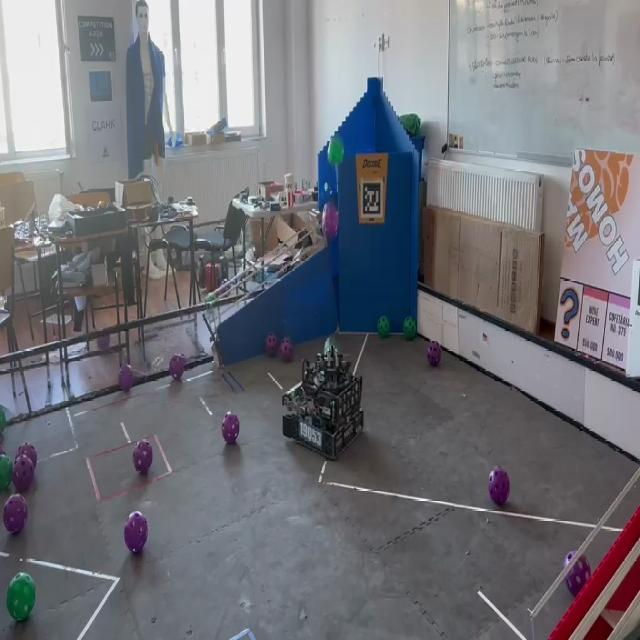artifact_green: (7, 573, 36, 622), (328, 135, 344, 166), (0, 455, 13, 490), (403, 317, 418, 340), (378, 316, 390, 338), (324, 337, 339, 354), (205, 293, 216, 309), (0, 407, 6, 434), (0, 443, 5, 455)
artifact_purple: (565, 556, 591, 596), (124, 512, 148, 554), (4, 495, 28, 534), (12, 456, 34, 492), (489, 467, 509, 506), (133, 439, 153, 475), (322, 199, 339, 240), (15, 443, 37, 468), (222, 412, 239, 444), (169, 355, 186, 381), (119, 365, 134, 392), (427, 342, 441, 367), (265, 332, 278, 358), (280, 338, 293, 362), (97, 335, 110, 350), (220, 279, 230, 294), (0, 444, 5, 455)
